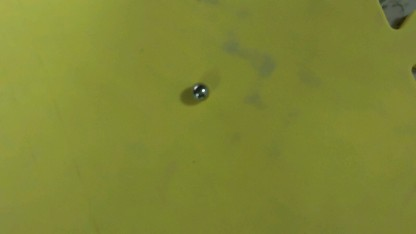ironball: (190, 81, 208, 100)
